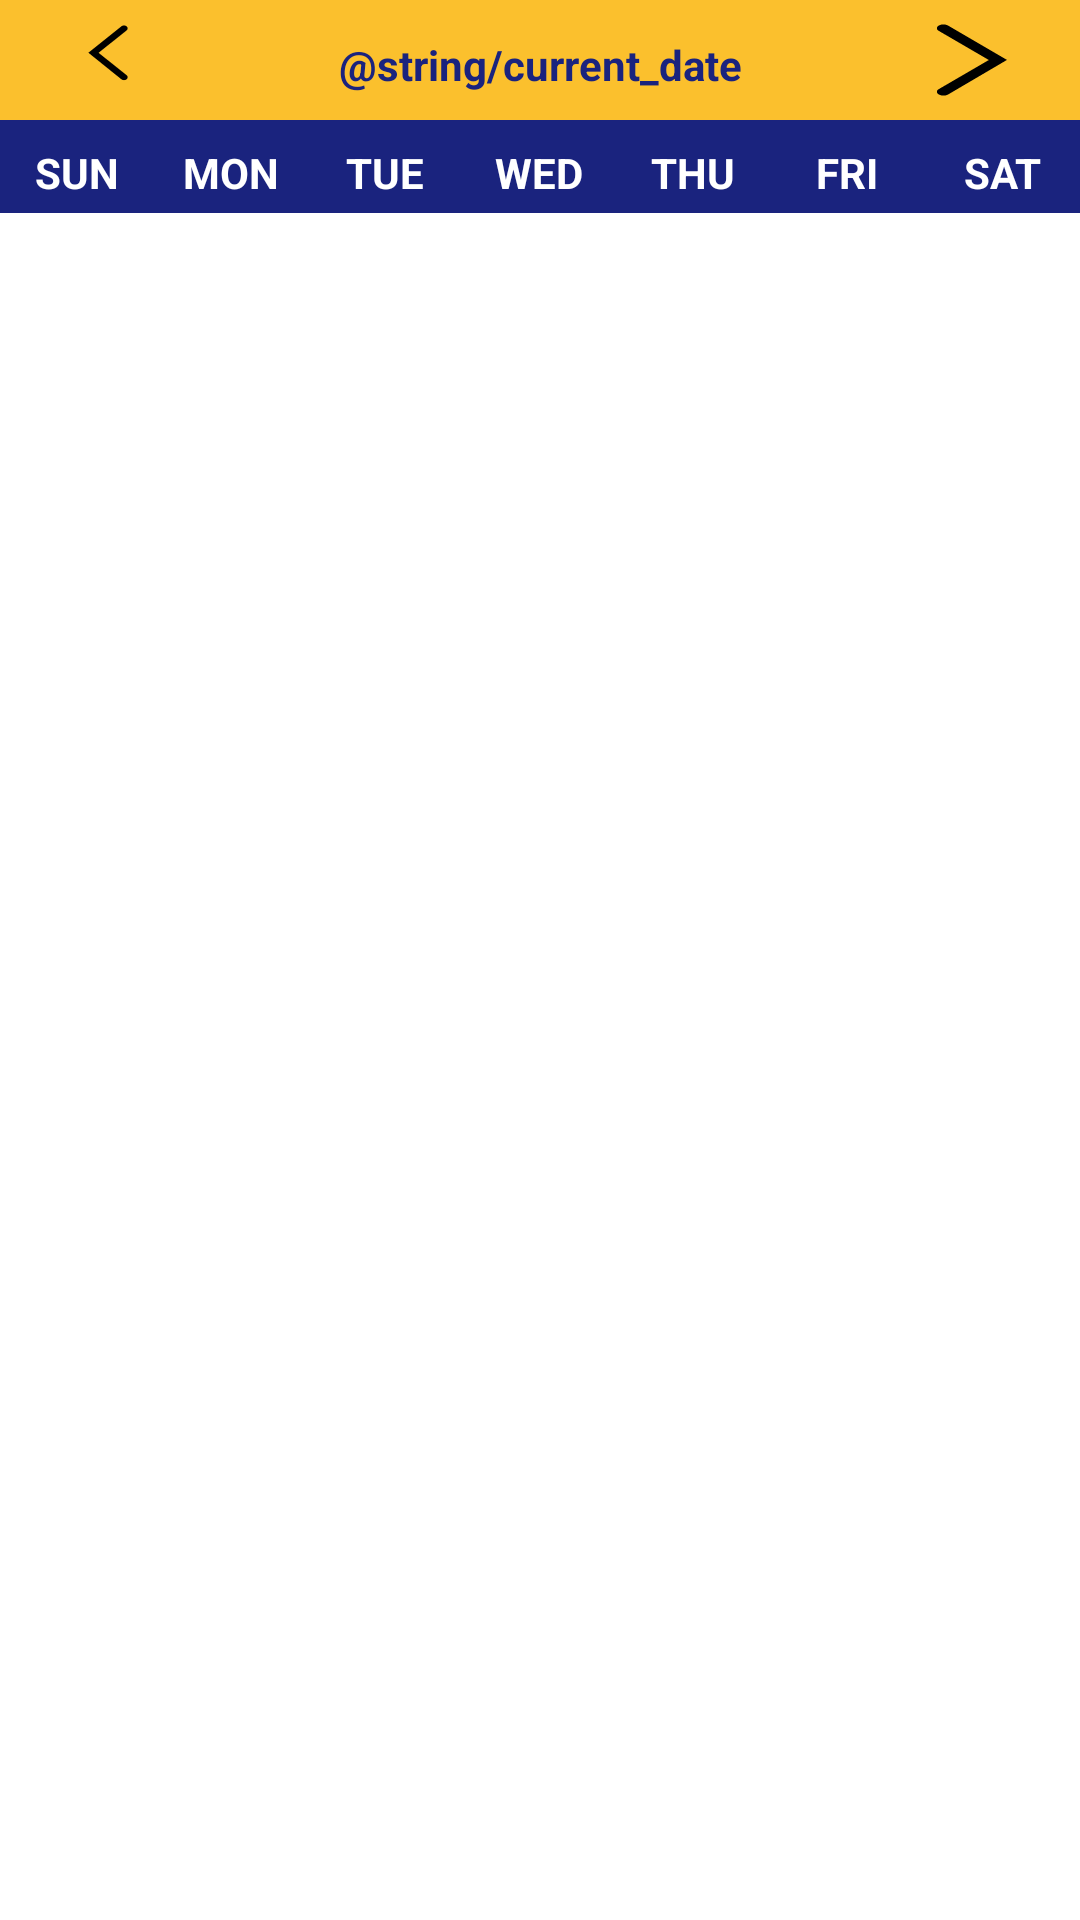

Screen size 1080x1920. Icon name, then its center in pixels as (x,y):
left arrow: (108,52)
right arrow: (972,60)
